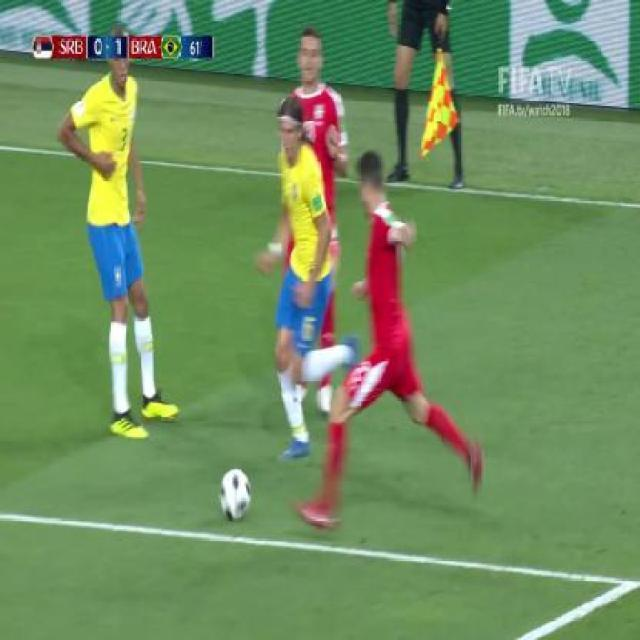ball: (215, 459, 257, 527)
player: (299, 138, 479, 526), (42, 28, 182, 439), (247, 34, 360, 508), (277, 25, 353, 287), (381, 0, 472, 186)
